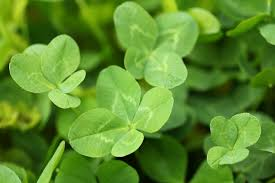4-clover: (67, 66, 173, 158), (111, 2, 198, 89), (209, 114, 262, 168)
